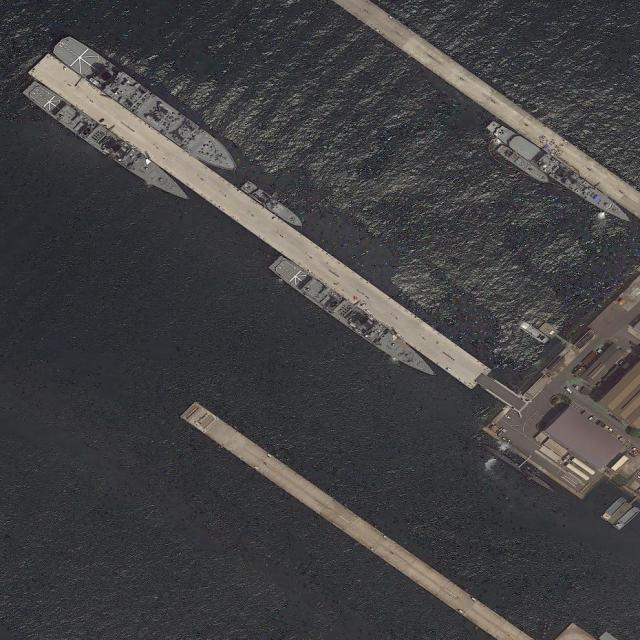Auxiliary Ships: (51, 30, 244, 179)
Destroyer: (21, 72, 196, 209), (265, 251, 444, 383), (485, 116, 634, 231)
Dock: (25, 51, 523, 409)
Other Ship: (515, 317, 550, 346)
Other Warship: (240, 180, 305, 231), (496, 142, 553, 188)
Submarine: (478, 440, 556, 493)
